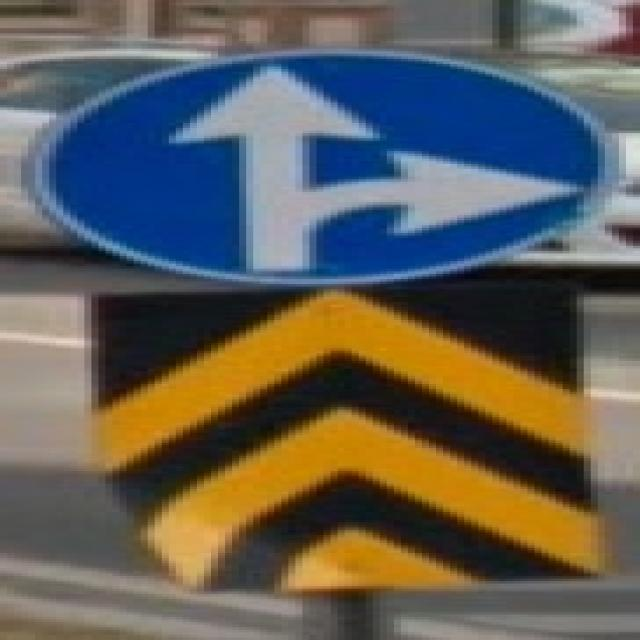Straight or Right: (33, 51, 609, 289)
